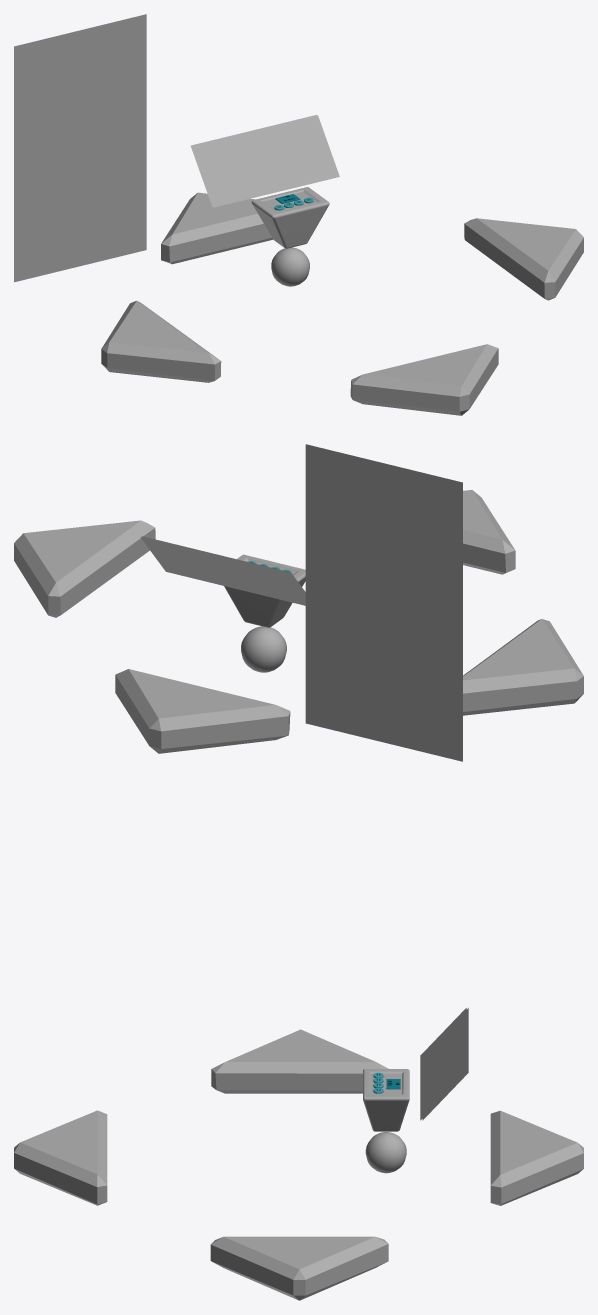
File: KZT.fbx
3 views of the same model, one above another, from view 1: azimuth 30°, elevation 25°; view 2: azimuth 150°, elevation 25°; view 3: azimuth 270°, elevation 25° (orthographic). The views are drawn at different scales.
Parts seen in each view (by area): view 1: kanban, KZT_after, KZT_right, KZT_left, KZT_before, p3, p7, p, p2, p4, p1, p5 (+2 smaller); view 2: KZT_before, KZT_right, KZT_left, p, p2, p6, p3, p1, p5, p7, p4, kanbanBG (+2 smaller); view 3: KZT_right, KZT_left, KZT_before, KZT_after, KZT_TZ, kanban.
Boxes of the visible parts, x1=… form: kanban: x1=191, y1=115, x2=339, y2=207; KZT_after: x1=350, y1=344, x2=498, y2=415; KZT_right: x1=464, y1=218, x2=583, y2=300; KZT_left: x1=101, y1=300, x2=221, y2=382; KZT_before: x1=161, y1=192, x2=273, y2=264; p3: x1=14, y1=38, x2=47, y2=164; p7: x1=113, y1=132, x2=146, y2=257; p: x1=113, y1=14, x2=146, y2=139; p2: x1=47, y1=30, x2=80, y2=156; p4: x1=14, y1=156, x2=47, y2=282; p1: x1=80, y1=22, x2=113, y2=147; p5: x1=47, y1=148, x2=80, y2=274; KZT_before: x1=115, y1=669, x2=290, y2=753; KZT_right: x1=14, y1=520, x2=155, y2=617; KZT_left: x1=463, y1=619, x2=583, y2=715; p: x1=305, y1=444, x2=344, y2=593; p2: x1=384, y1=463, x2=423, y2=612; p6: x1=345, y1=593, x2=384, y2=742; p3: x1=423, y1=473, x2=462, y2=621; p1: x1=345, y1=454, x2=384, y2=602; p5: x1=384, y1=603, x2=423, y2=751; p7: x1=305, y1=584, x2=344, y2=732; p4: x1=423, y1=612, x2=462, y2=761; kanbanBG: x1=140, y1=537, x2=305, y2=605; KZT_right: x1=210, y1=1236, x2=388, y2=1300; KZT_left: x1=211, y1=1029, x2=388, y2=1093; KZT_before: x1=490, y1=1110, x2=583, y2=1205; KZT_after: x1=14, y1=1110, x2=107, y2=1205; KZT_TZ: x1=363, y1=1069, x2=409, y2=1173; kanban: x1=420, y1=1008, x2=466, y2=1120.
Bounding box in the file's own units: 5.35 × 2.75 × 5.26.
4 materials, 2 textured.
